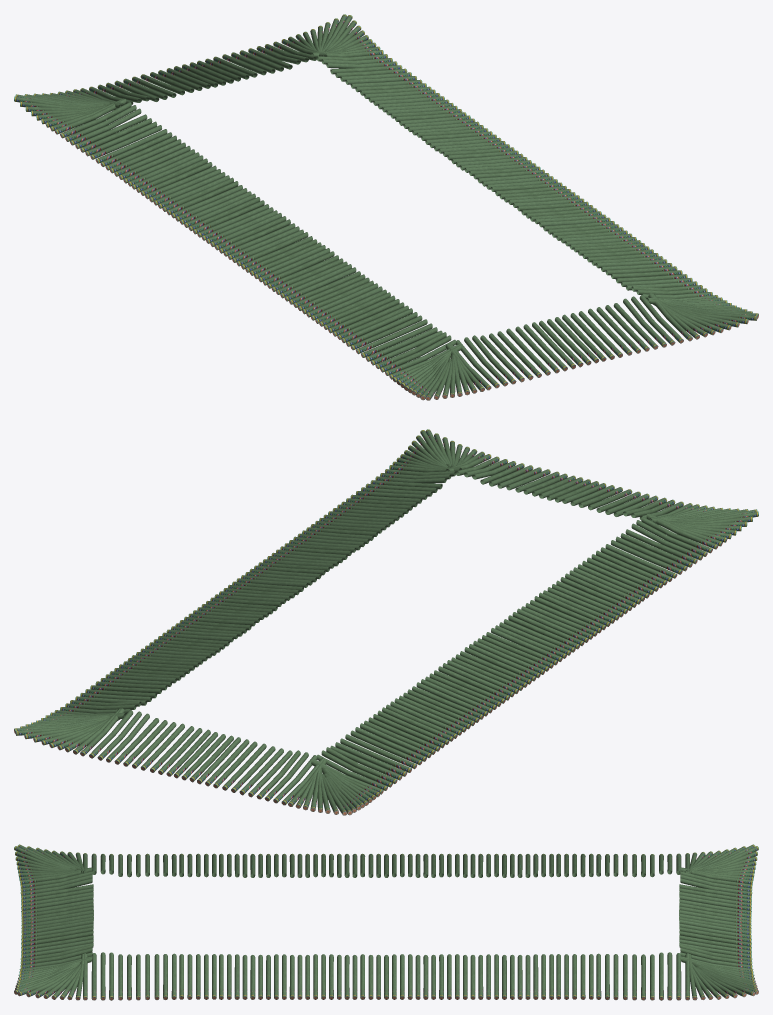
Rendered from SM_Seokkalae07A.fbx.
3 renders of one model, top to bottom at view 1: azimuth 30°, elevation 25°; view 2: azimuth 150°, elevation 25°; view 3: azimuth 270°, elevation 25°, orthographic. The views are drawn at different scales.
Parts seen in each view (by area): view 1: SM_Seokkalae07A; view 2: SM_Seokkalae07A; view 3: SM_Seokkalae07A.
Boxes of the visible parts, box(x1,y1,x2,y2) form: SM_Seokkalae07A: box(14, 14, 758, 400); SM_Seokkalae07A: box(14, 429, 758, 815); SM_Seokkalae07A: box(14, 844, 758, 1000).
Size of the model in its own units: 1238 by 2621 by 71.24.
